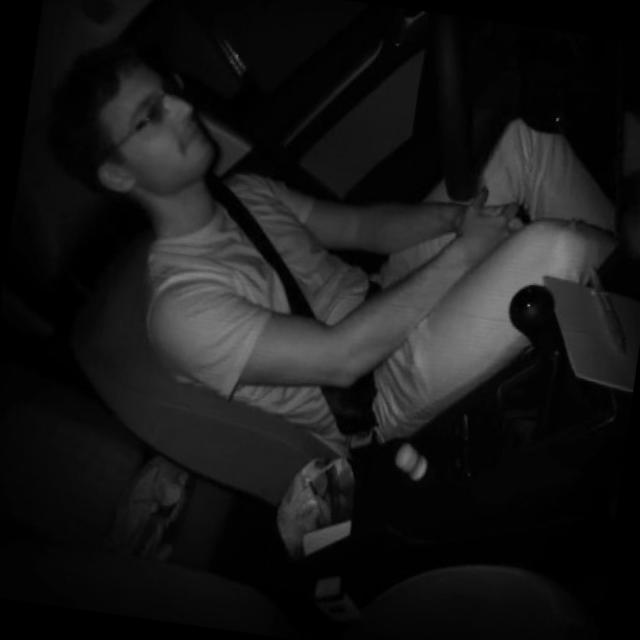pen: (575, 255, 640, 361)
